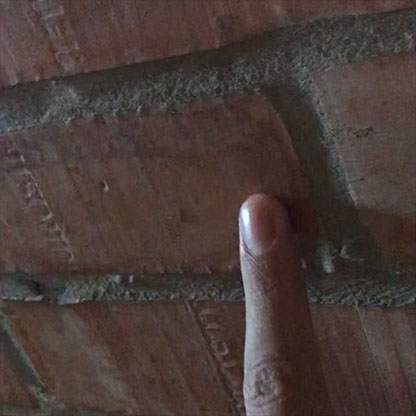fingertip: (226, 184, 304, 264)
